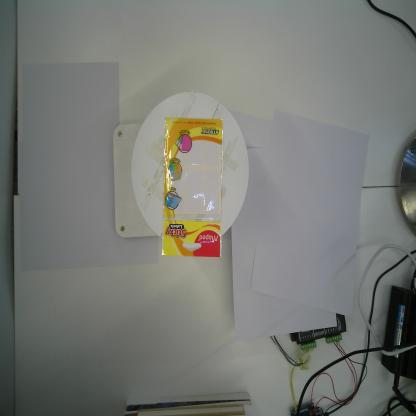Stationery: (160, 117, 224, 257)
